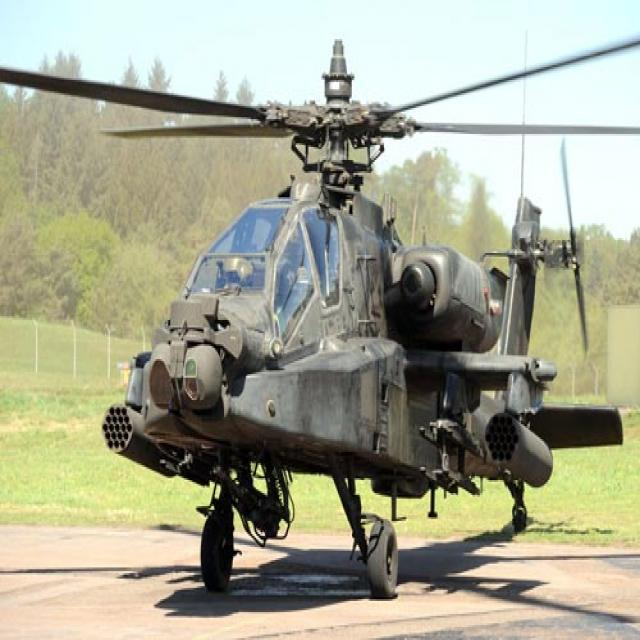Apache: (4, 36, 640, 596)
